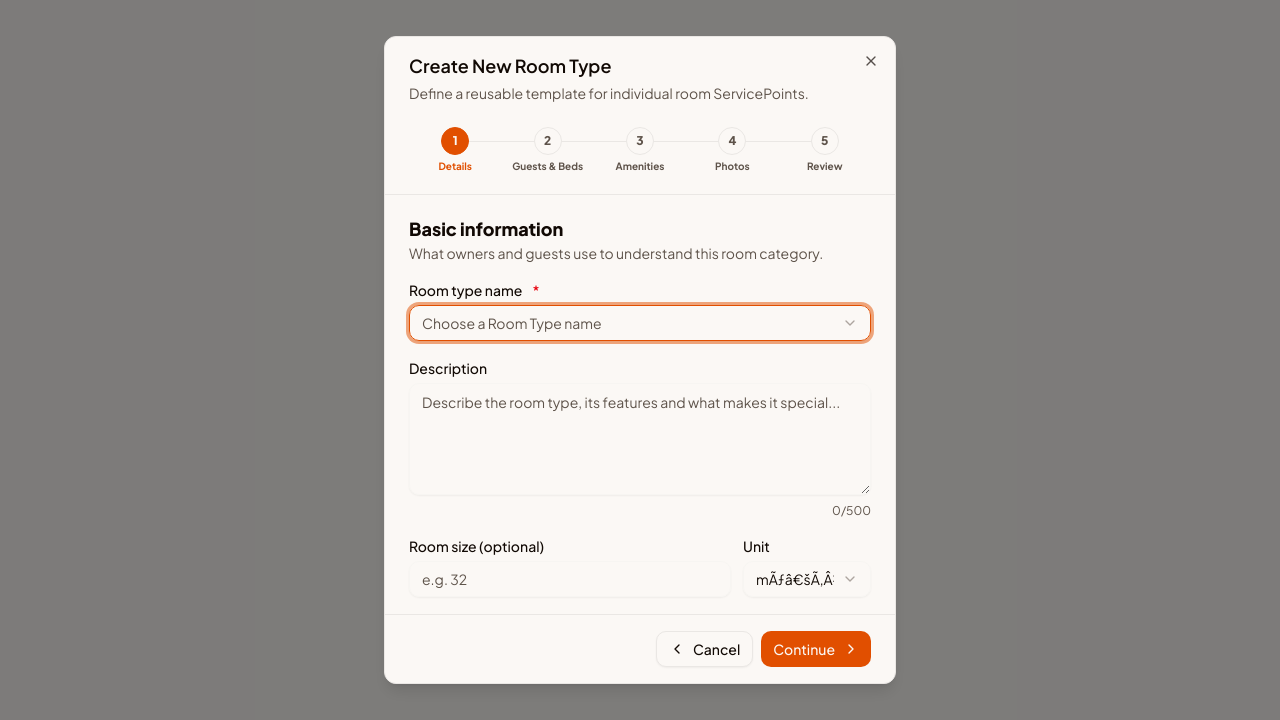
HotelRoomTypeWizard › keeps users on the invalid step and focuses the room type choice
The width and height of the screenshot is (1280, 720).
Step 1. Click the button "Continue" → (816, 649), box [761,631,871,667]
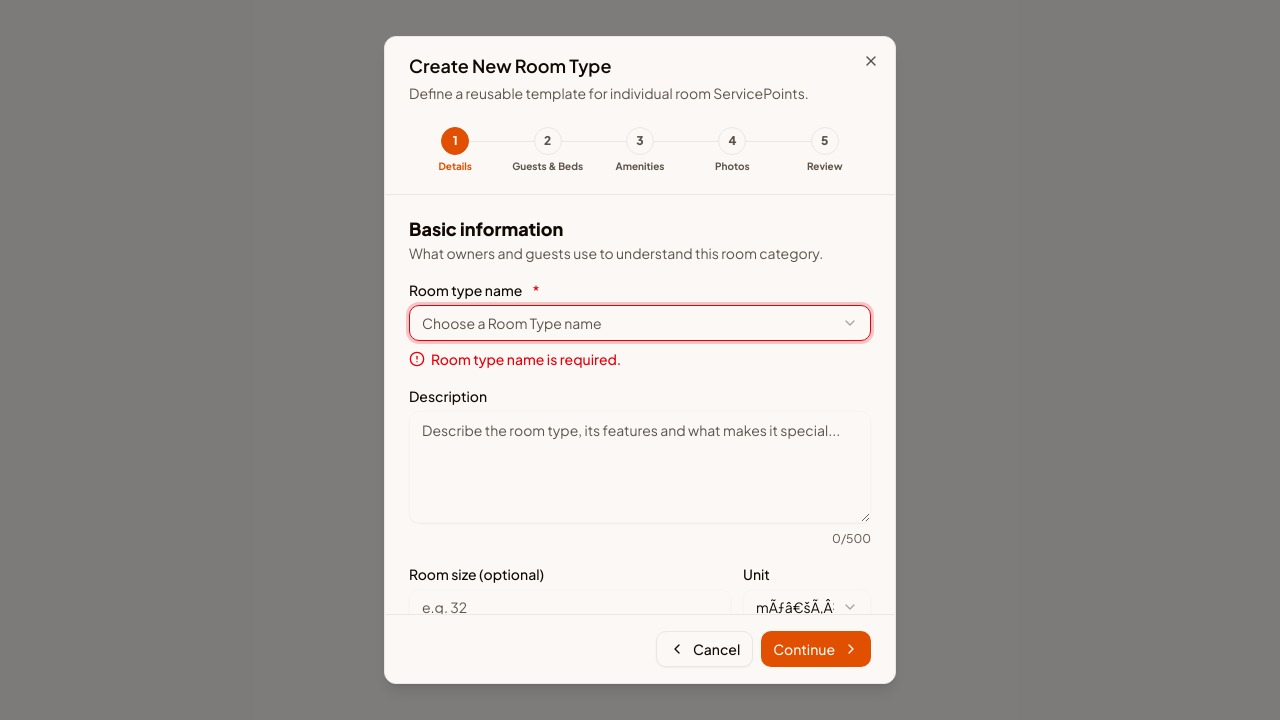
Expected: the heading "Basic information" is shown, [409,217,563,240]
Expected: the text "Room type name is required." is shown, [409,350,621,368]
